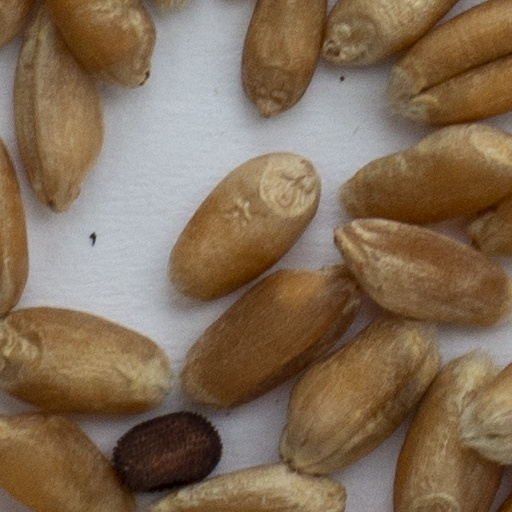Agrostemma-poly: (115, 413, 220, 491)
